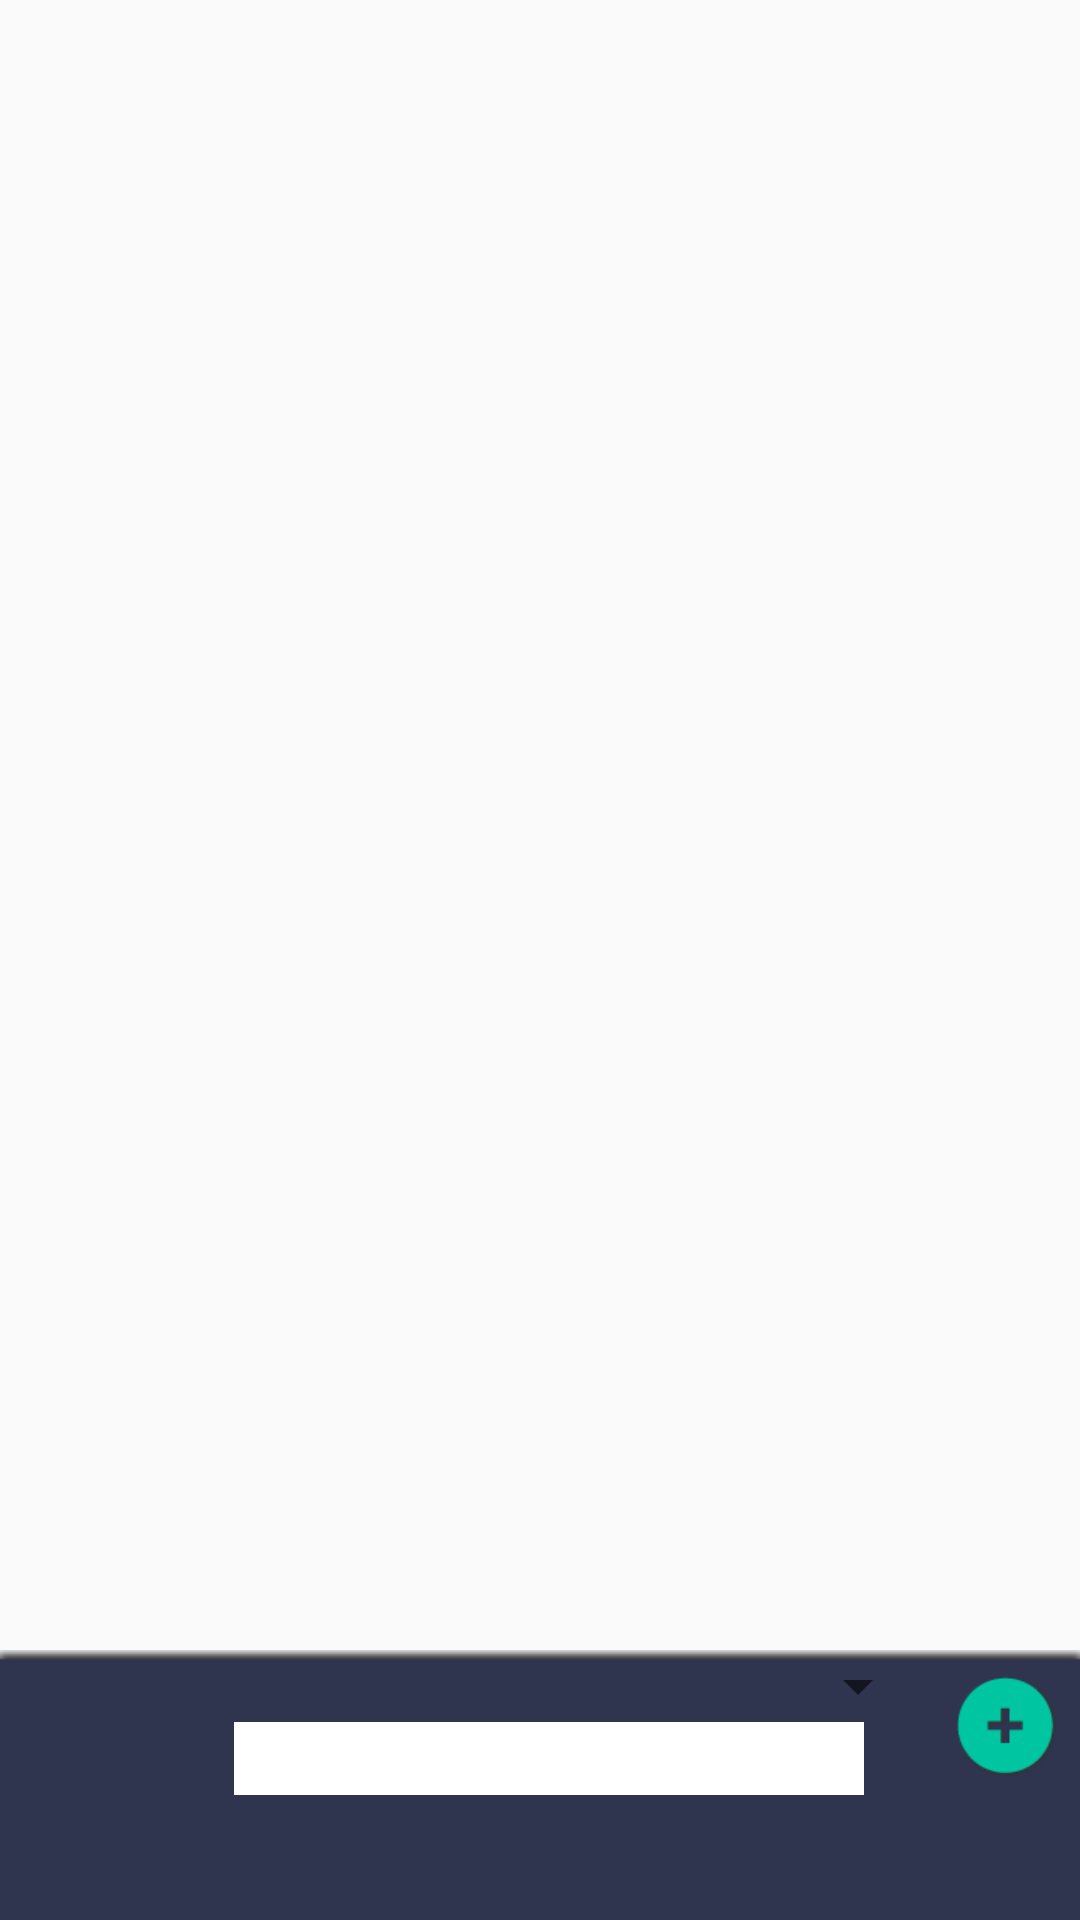

Icon click points for this 1080w x 1920h phone screenshot, format [x,y]:
plusbuttonapp: [1005,1725]
